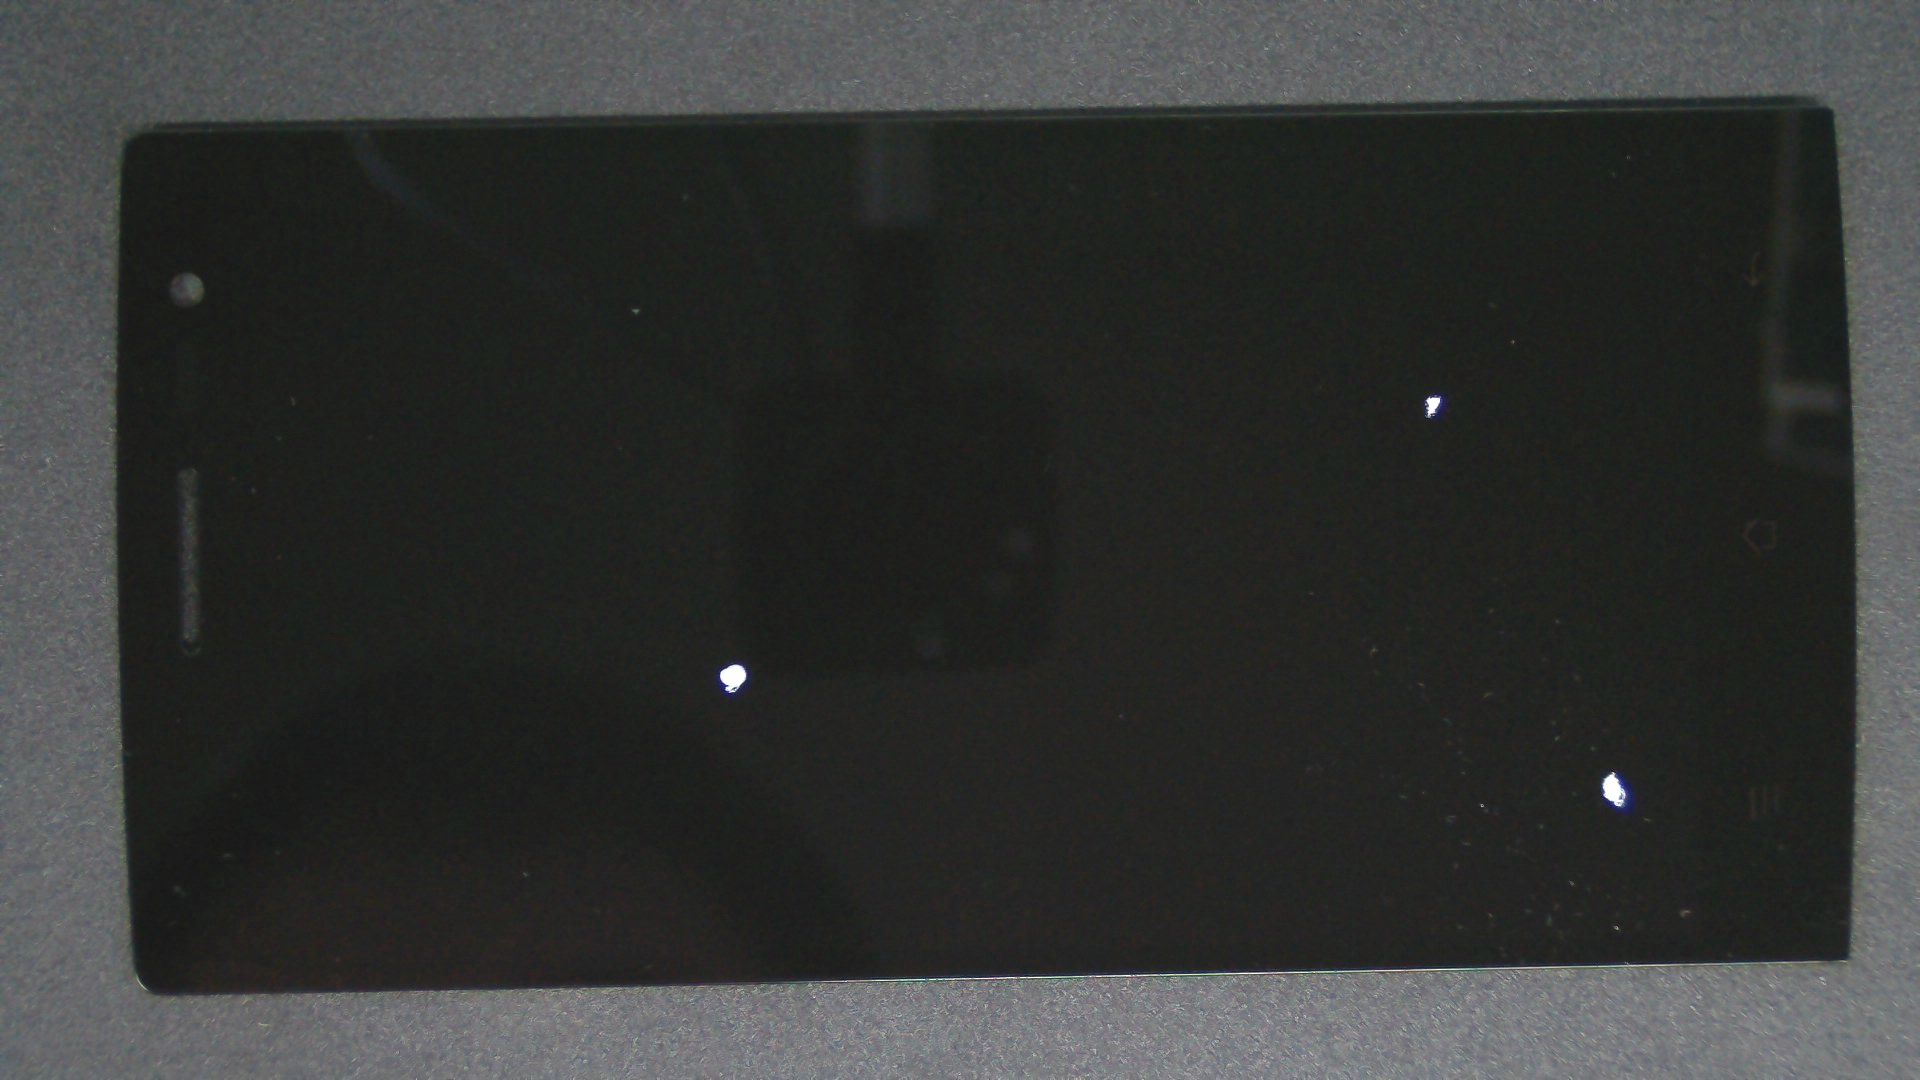oil: (807, 385, 1920, 1080), (368, 331, 1104, 993), (717, 196, 1920, 592)
